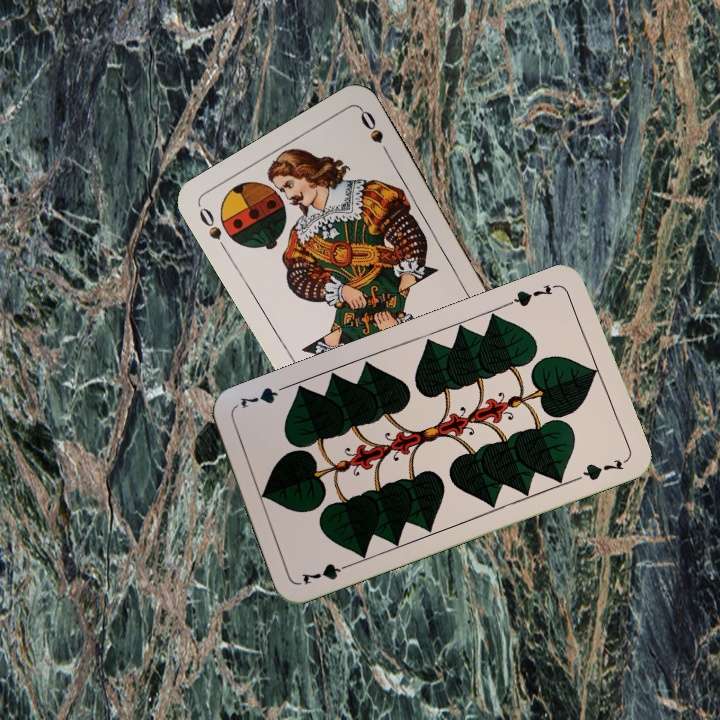G7: (297, 558, 356, 587), (504, 280, 561, 310)
SO: (194, 203, 231, 256)
